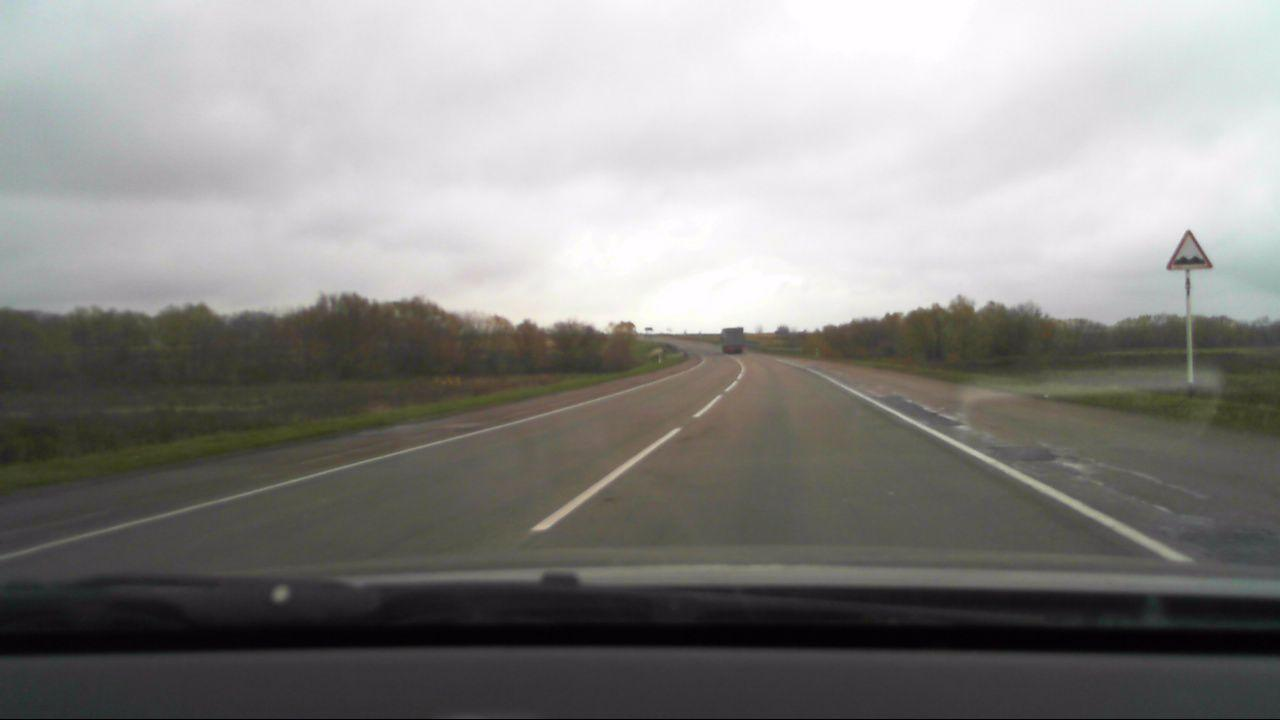1_16: (1164, 228, 1212, 269)
